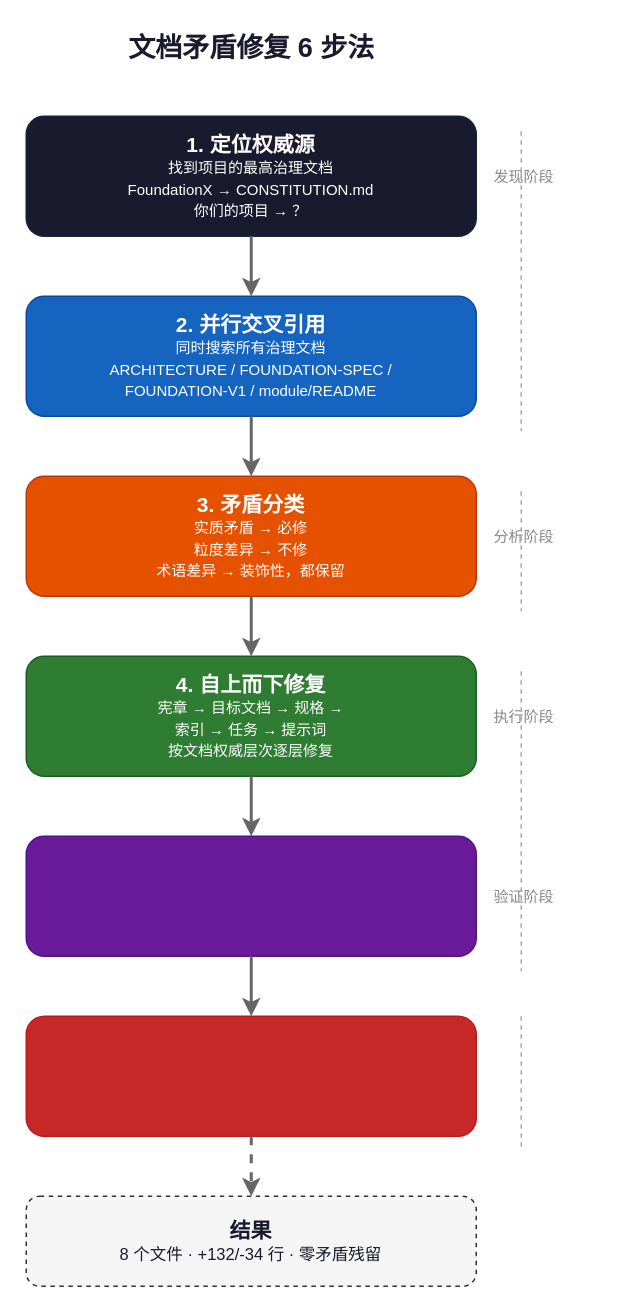
Some shapes in this 623 by 1313 pixel diagram are drawn without their labels. The shapes that lost their labels are listed below. From the top down, each one's centre as x and y in pixels, then its label:
[250,895]: 5. grep + 脚本验证 全局扫描旧语言 → 归零 结构化交叉检查权威要求 17 项检查 / 16 PASS / 1 COSMETIC
[250,1075]: 6. 历史归档不删除 旧计划加归档标签 + 时间戳 保留审计追溯链 ⚠️ 删除历史 = 丢失上下文
